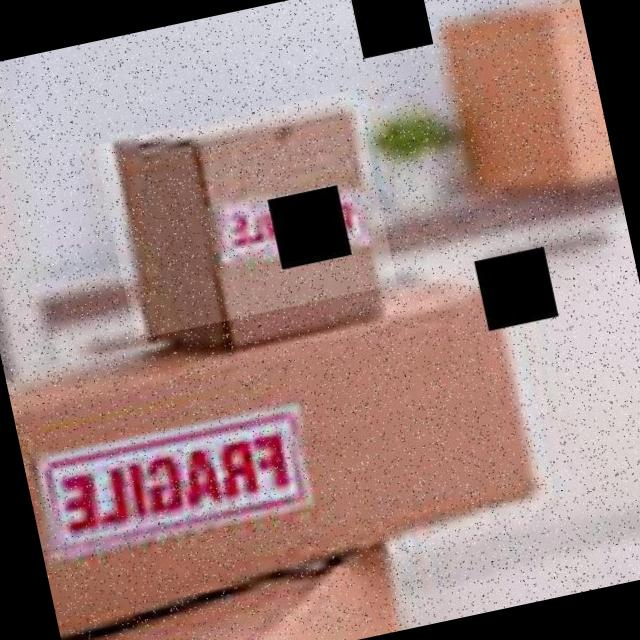box: (3, 262, 556, 640), (94, 88, 404, 370)
